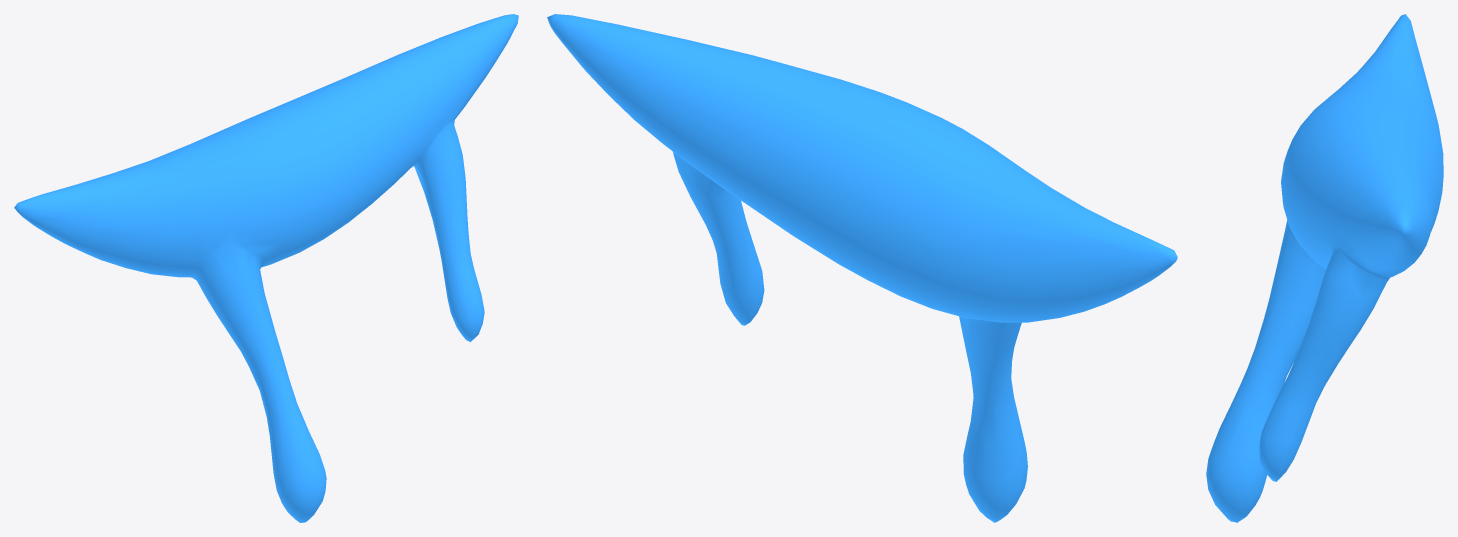
File: Sap3_98d8b502.fbx
The picture shows the model from 3 angles, left to right: view 1: azimuth 30°, elevation 25°; view 2: azimuth 150°, elevation 25°; view 3: azimuth 270°, elevation 25°; orthographic projection. The views are drawn at different scales.
Parts seen in each view (by area): view 1: BlueSap_C_Seam; view 2: BlueSap_C_Seam; view 3: BlueSap_C_Seam.
Part boxes in pixels (x1=…): BlueSap_C_Seam: x1=14, y1=14, x2=518, y2=522; BlueSap_C_Seam: x1=547, y1=14, x2=1177, y2=522; BlueSap_C_Seam: x1=1206, y1=14, x2=1443, y2=522.
Size of the model in its own units: 107 by 78.65 by 36.31.
